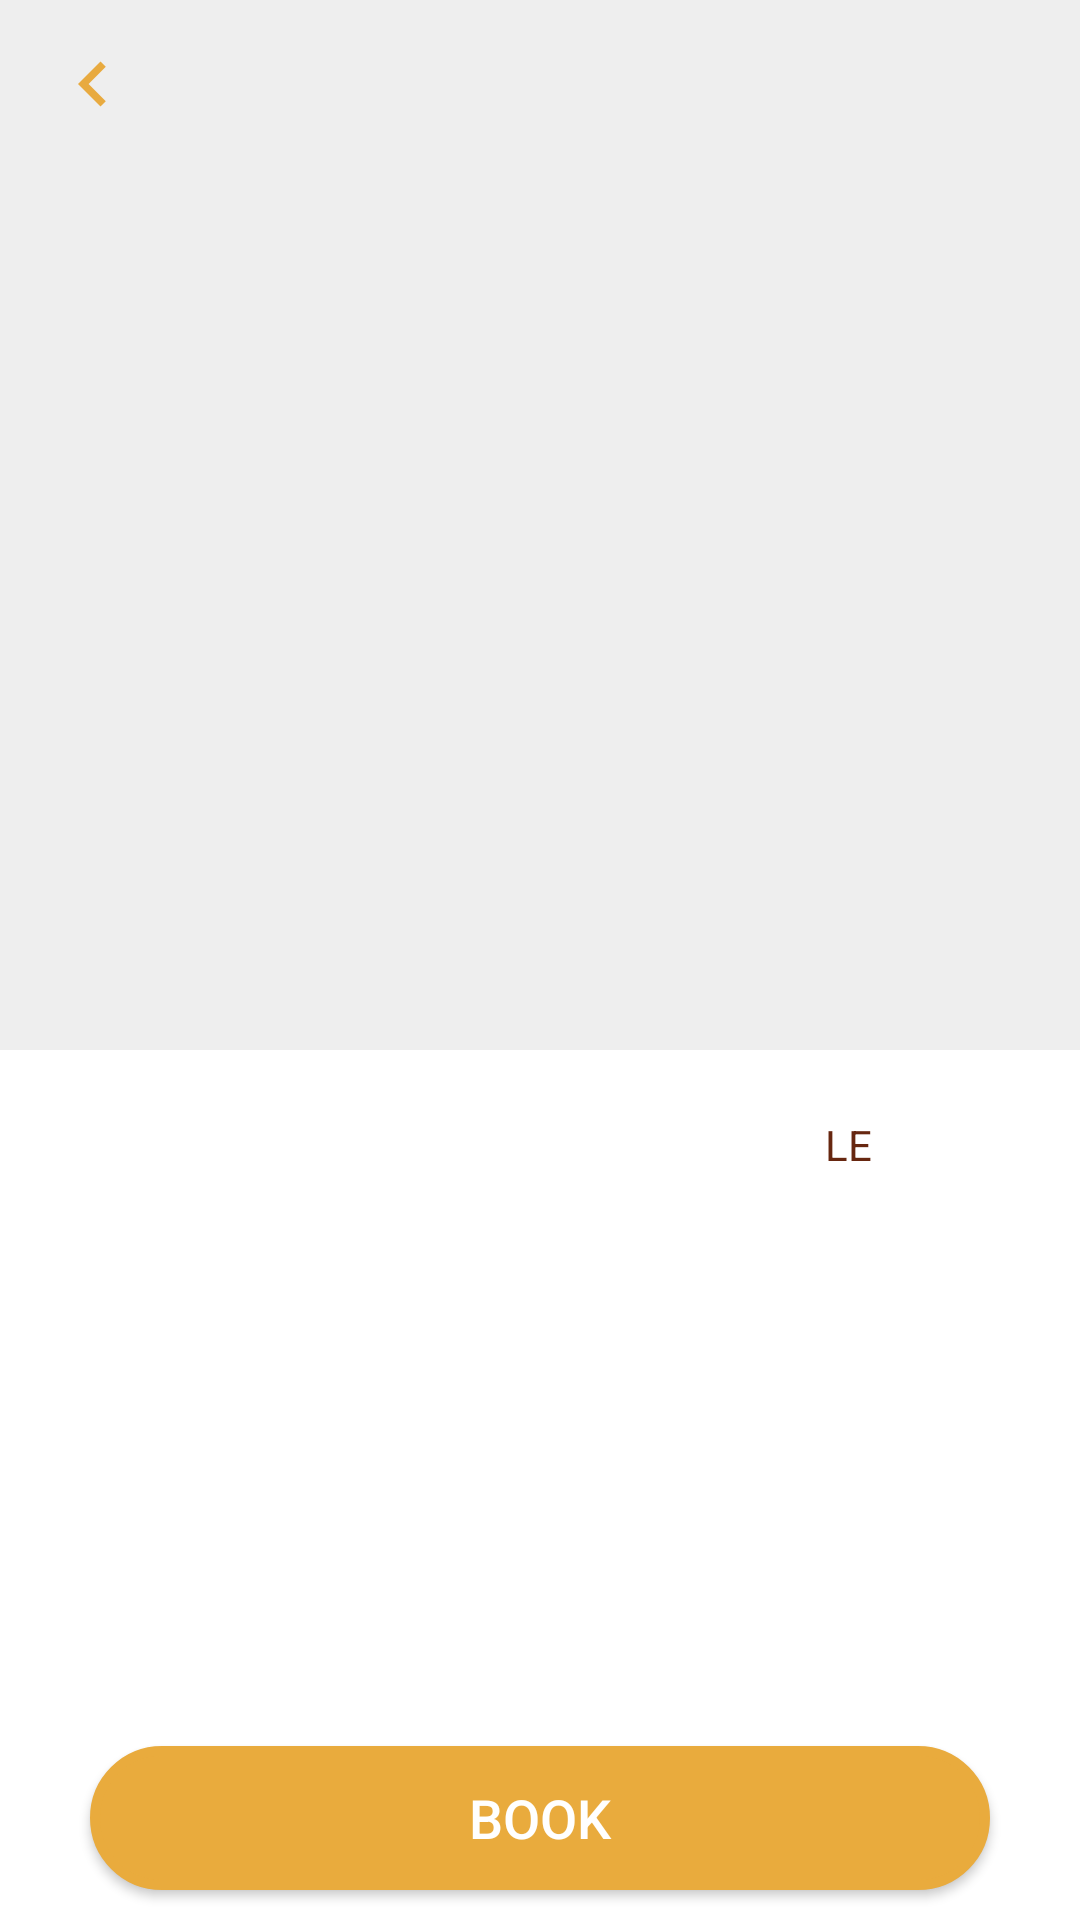

Screen size 1080 × 1920. Icon name, then its center in pixels as point (x, y):
Back to previous: point (92, 84)
